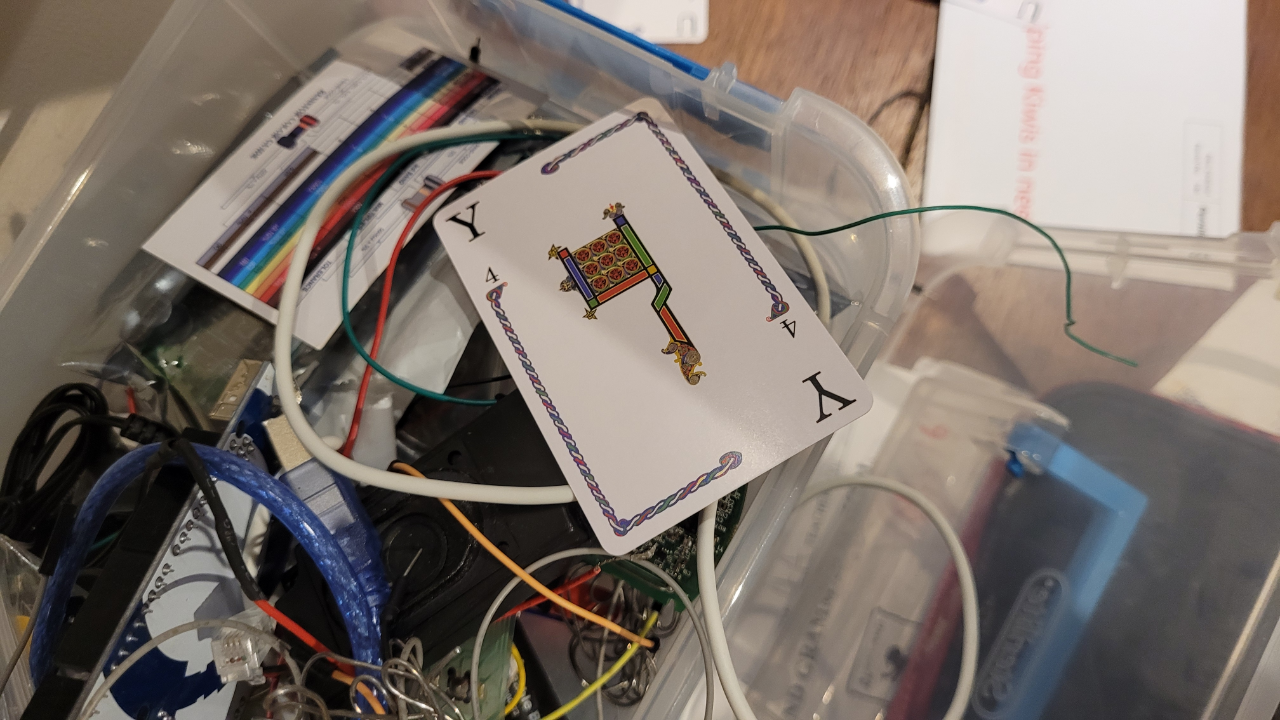quiddler_card: (437, 88, 891, 564)
